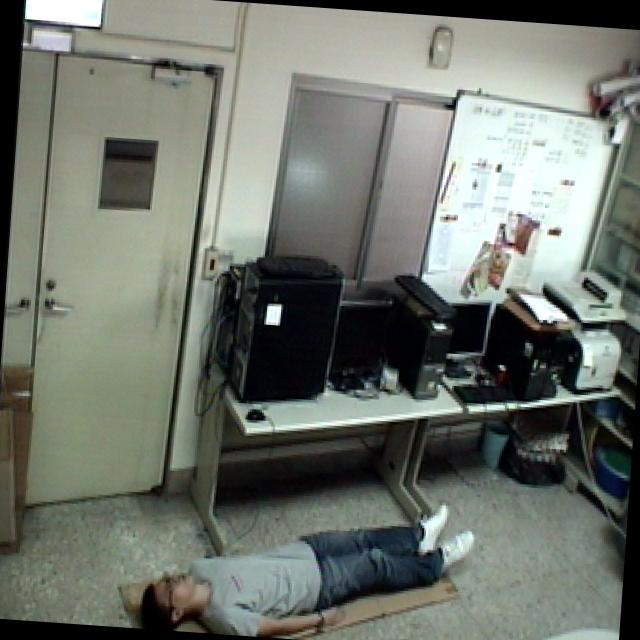lie: (132, 452, 499, 640)
